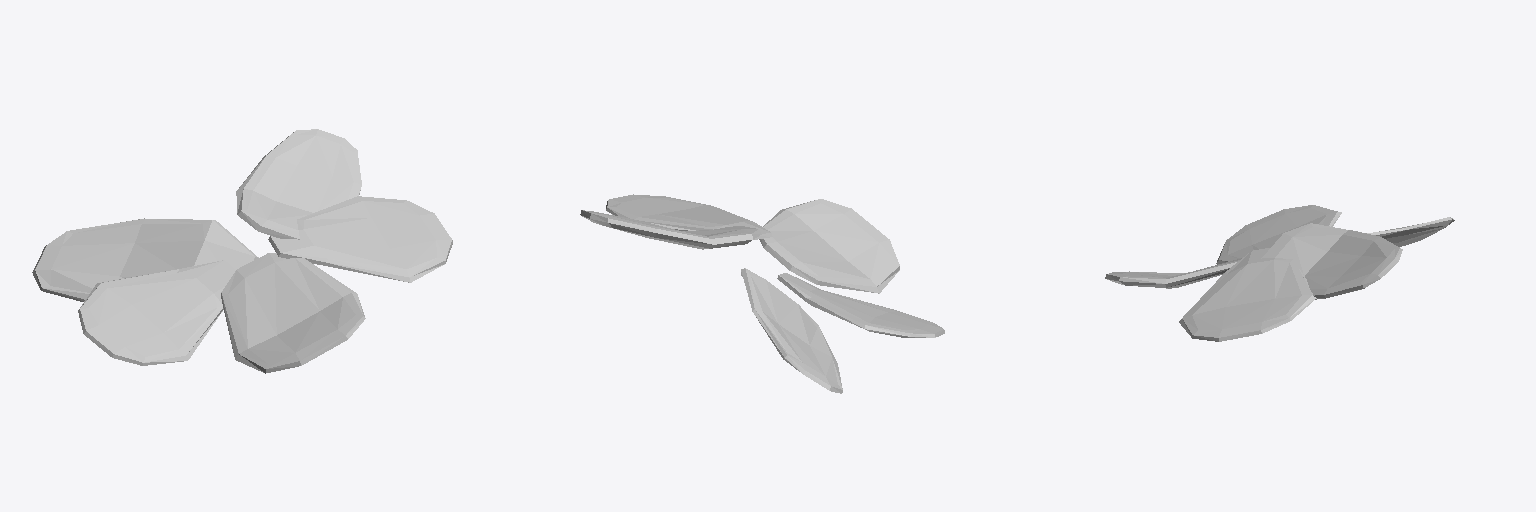
The model's file is petal.obj.
3 views of the same model, side by side, from view 1: azimuth 30°, elevation 25°; view 2: azimuth 150°, elevation 25°; view 3: azimuth 270°, elevation 25° (orthographic).
Visible parts, largest first — view 1: polySurface46; view 2: polySurface46; view 3: polySurface46.
Boxes of the visible parts, x1,y1,x2,y2 form: polySurface46: [32, 129, 452, 373]; polySurface46: [580, 194, 944, 393]; polySurface46: [1105, 205, 1454, 341].
Size of the model in its own units: 1.87 by 0.6003 by 1.67.